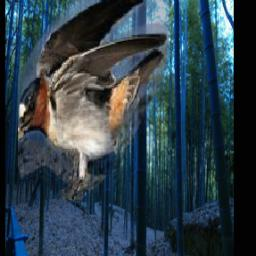Swallow: (17, 0, 168, 200)
